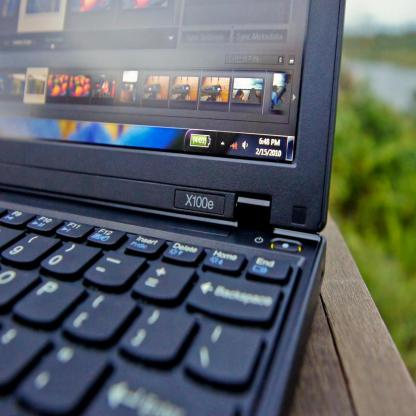board: (0, 0, 347, 415)
